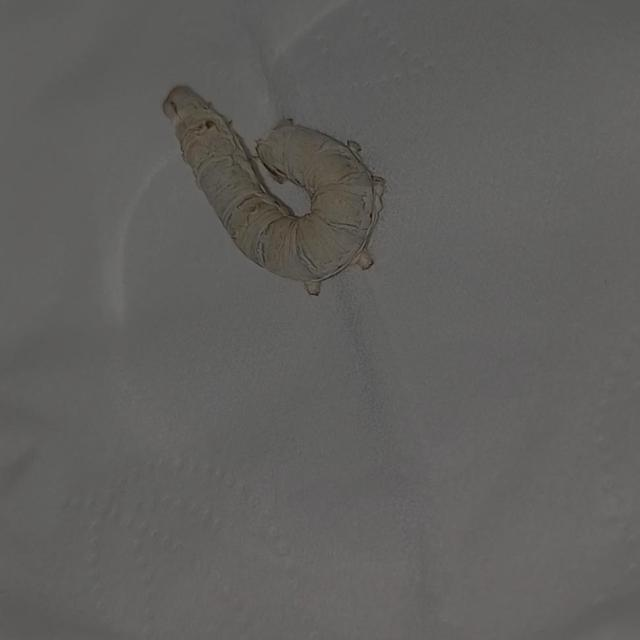Healthy: (149, 61, 412, 313)
